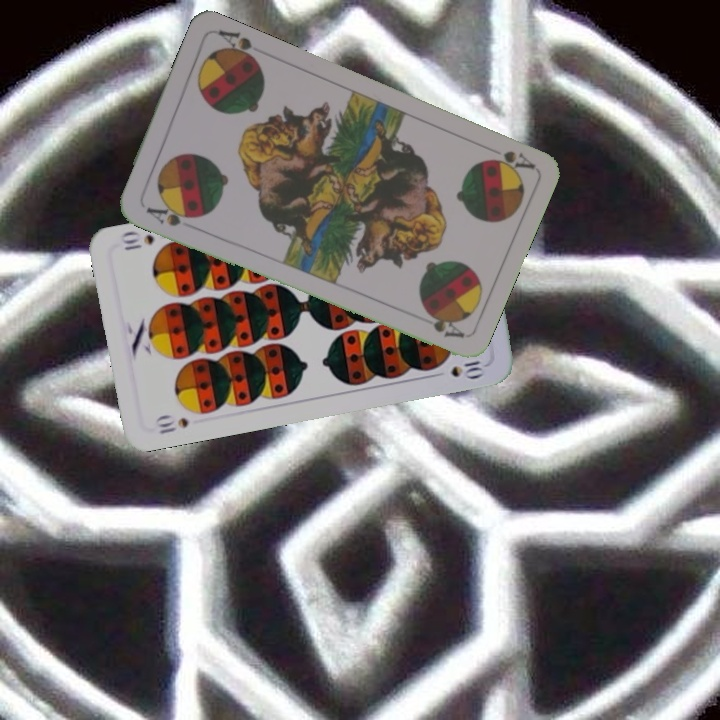S10: (151, 411, 191, 436)
SA: (480, 146, 537, 178), (142, 199, 199, 229)
